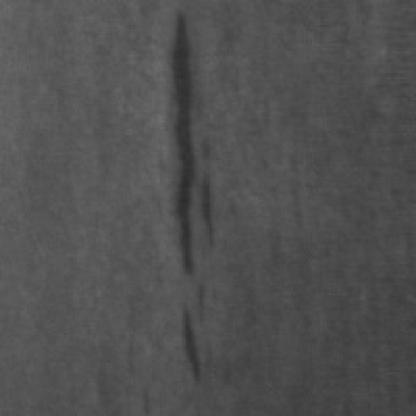inclusion: (158, 13, 218, 287), (168, 289, 212, 391)
